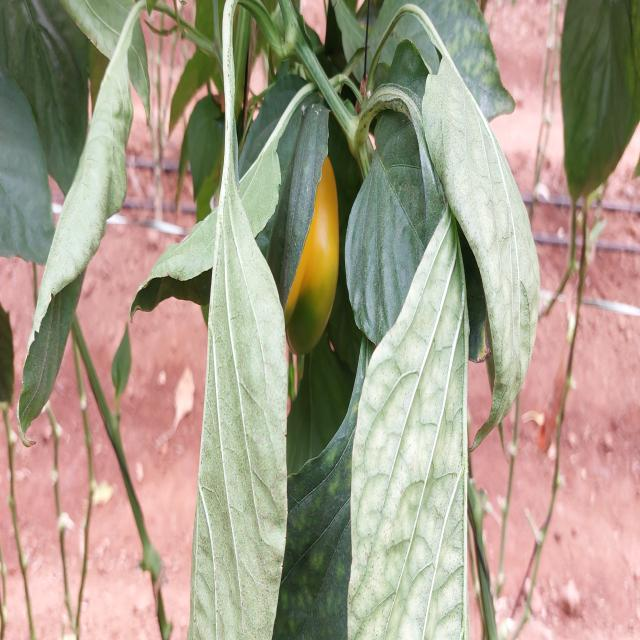GreenishYellow--Can-be-Harvested: (233, 101, 358, 367)
